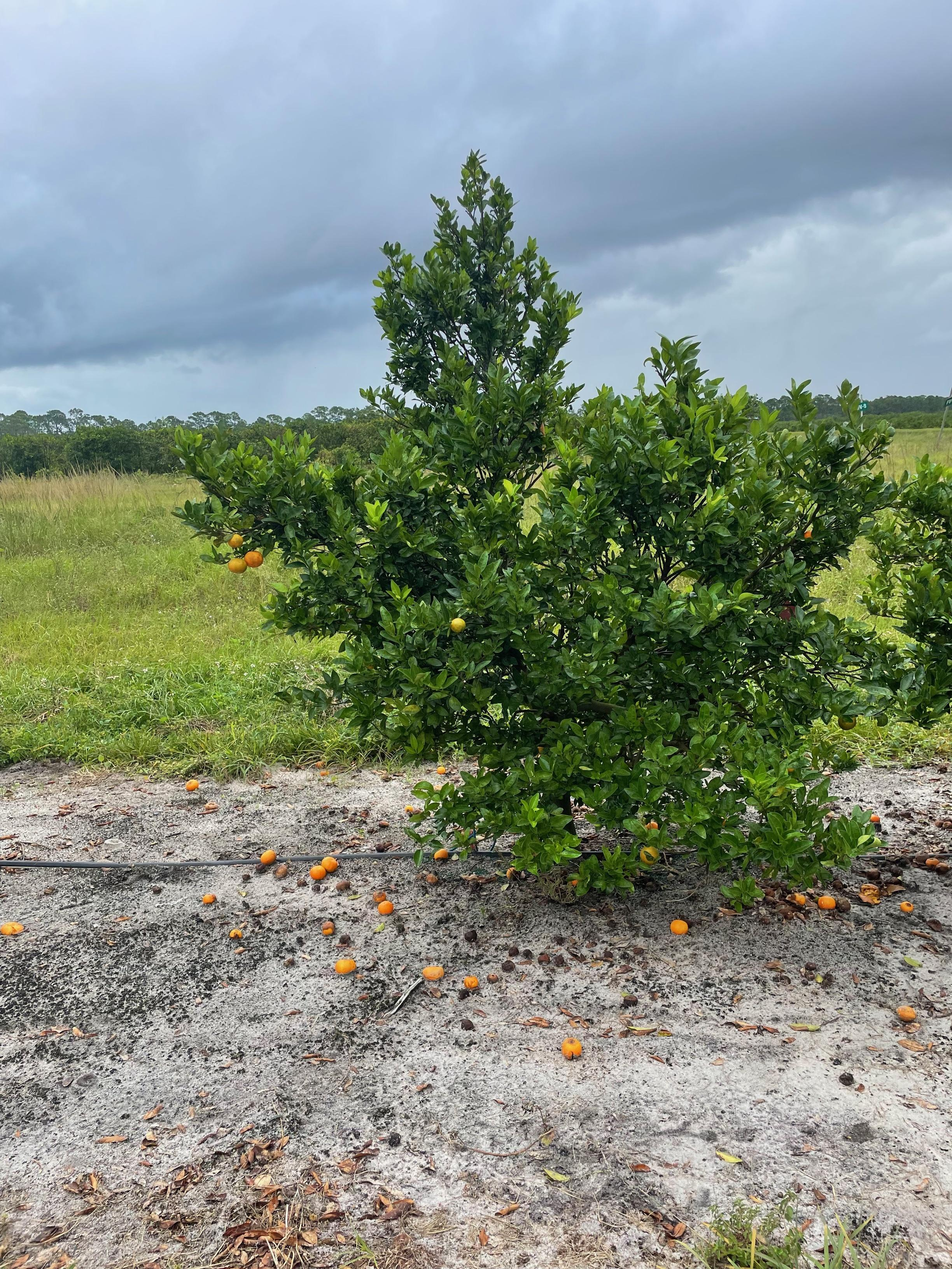fruit_on_ground: (638, 844, 661, 865), (243, 550, 264, 569), (228, 556, 248, 575), (838, 713, 857, 731), (227, 531, 245, 549), (449, 616, 467, 634), (802, 529, 816, 542)
fruit_on_tree: (560, 1037, 584, 1061), (858, 883, 881, 903), (1, 918, 24, 937), (421, 964, 445, 982), (896, 1003, 918, 1022), (668, 917, 690, 935), (334, 957, 355, 975), (308, 862, 327, 879), (320, 853, 338, 870), (817, 894, 836, 910), (259, 849, 277, 865), (462, 973, 479, 989), (334, 878, 352, 893), (432, 846, 450, 861), (377, 899, 395, 914), (835, 897, 852, 912), (272, 863, 289, 878), (504, 865, 520, 880), (791, 890, 807, 905), (320, 919, 335, 935), (644, 819, 661, 833), (621, 994, 639, 1007), (899, 899, 915, 913), (201, 890, 217, 904), (185, 777, 201, 791), (567, 874, 582, 888), (228, 926, 243, 940), (203, 798, 219, 811), (371, 890, 387, 903), (934, 861, 950, 873), (425, 871, 439, 884), (831, 878, 844, 891), (924, 855, 939, 866), (486, 972, 499, 984), (434, 764, 448, 775), (403, 803, 415, 815), (378, 816, 390, 827), (868, 813, 881, 823), (934, 818, 945, 828), (314, 759, 325, 769)
